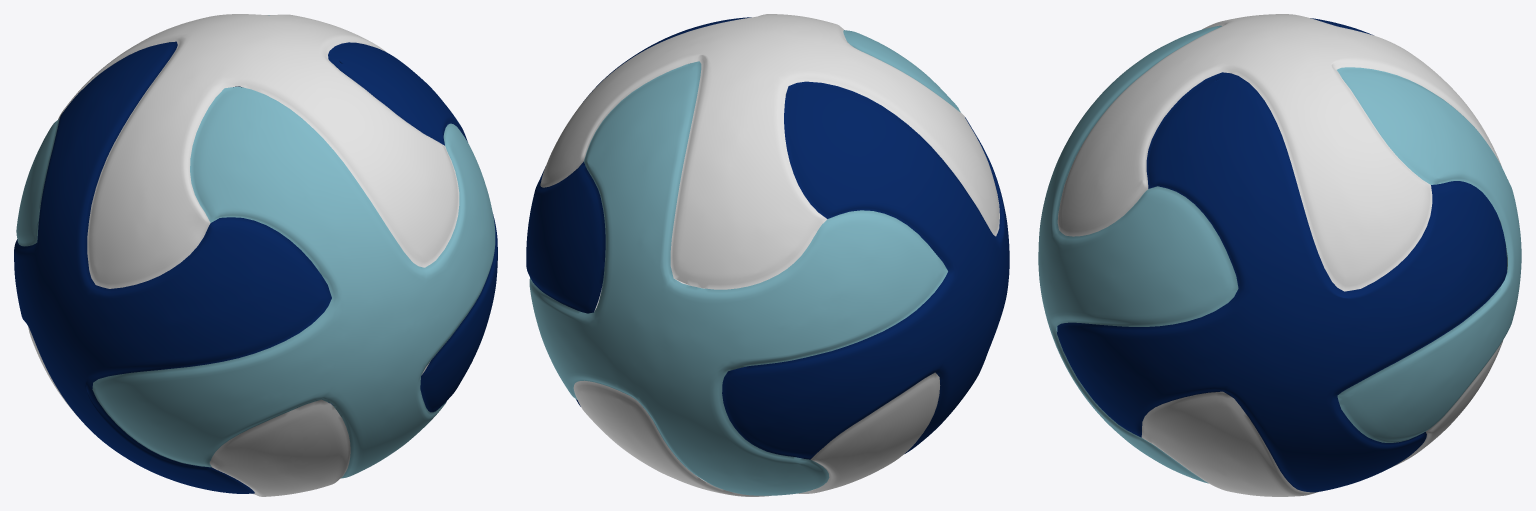
The model's file is SoccerBall.fbx.
3 views of the same model, side by side, from view 1: azimuth 30°, elevation 25°; view 2: azimuth 150°, elevation 25°; view 3: azimuth 270°, elevation 25° (orthographic).
Visible parts, largest first — view 1: Brazu; view 2: Brazu; view 3: Brazu.
Part boxes in pixels (x1,y1,x2,y2): Brazu: (14,14,497,496); Brazu: (526,14,1009,496); Brazu: (1038,14,1521,496).
Size of the model in its own units: 21.97 by 22 by 21.98.
